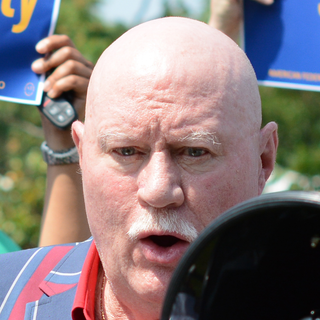eye: (173, 142, 219, 164), (106, 142, 145, 165)
